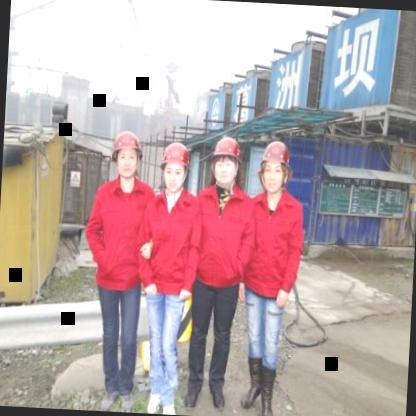helmet: (254, 134, 295, 198), (108, 123, 145, 183), (208, 132, 244, 191), (158, 136, 192, 193)
